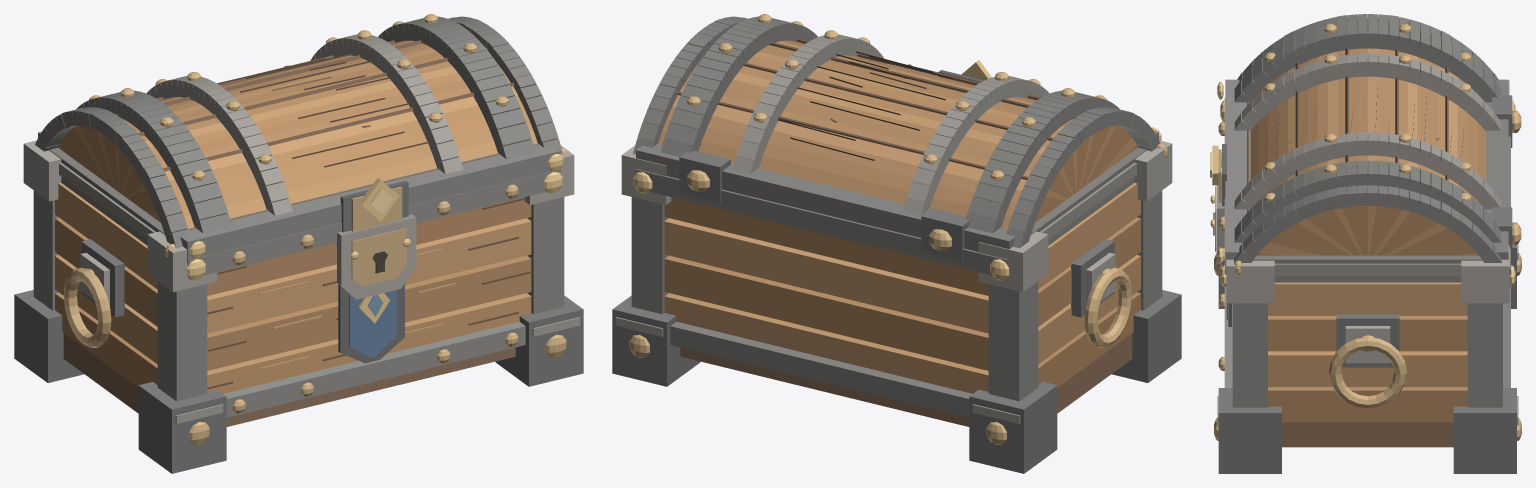
The model's file is village-chest-v0.1.glb.
3 renders of one model, left to right at view 1: azimuth 30°, elevation 25°; view 2: azimuth 150°, elevation 25°; view 3: azimuth 270°, elevation 25°, orthographic. The views are drawn at different scales.
Visible parts, largest first — view 1: Chest_Body, Chest_Lid; view 2: Chest_Body, Chest_Lid; view 3: Chest_Lid, Chest_Body.
Part boxes in pixels (box(x1,y1,x2,y2)): Chest_Body: box(14, 140, 583, 473); Chest_Lid: box(35, 14, 567, 263); Chest_Body: box(612, 140, 1181, 473); Chest_Lid: box(633, 14, 1167, 251); Chest_Lid: box(1210, 14, 1508, 274); Chest_Body: box(1210, 80, 1521, 473).
Bounding box in the file's own units: 2.55 × 1.68 × 1.67.
